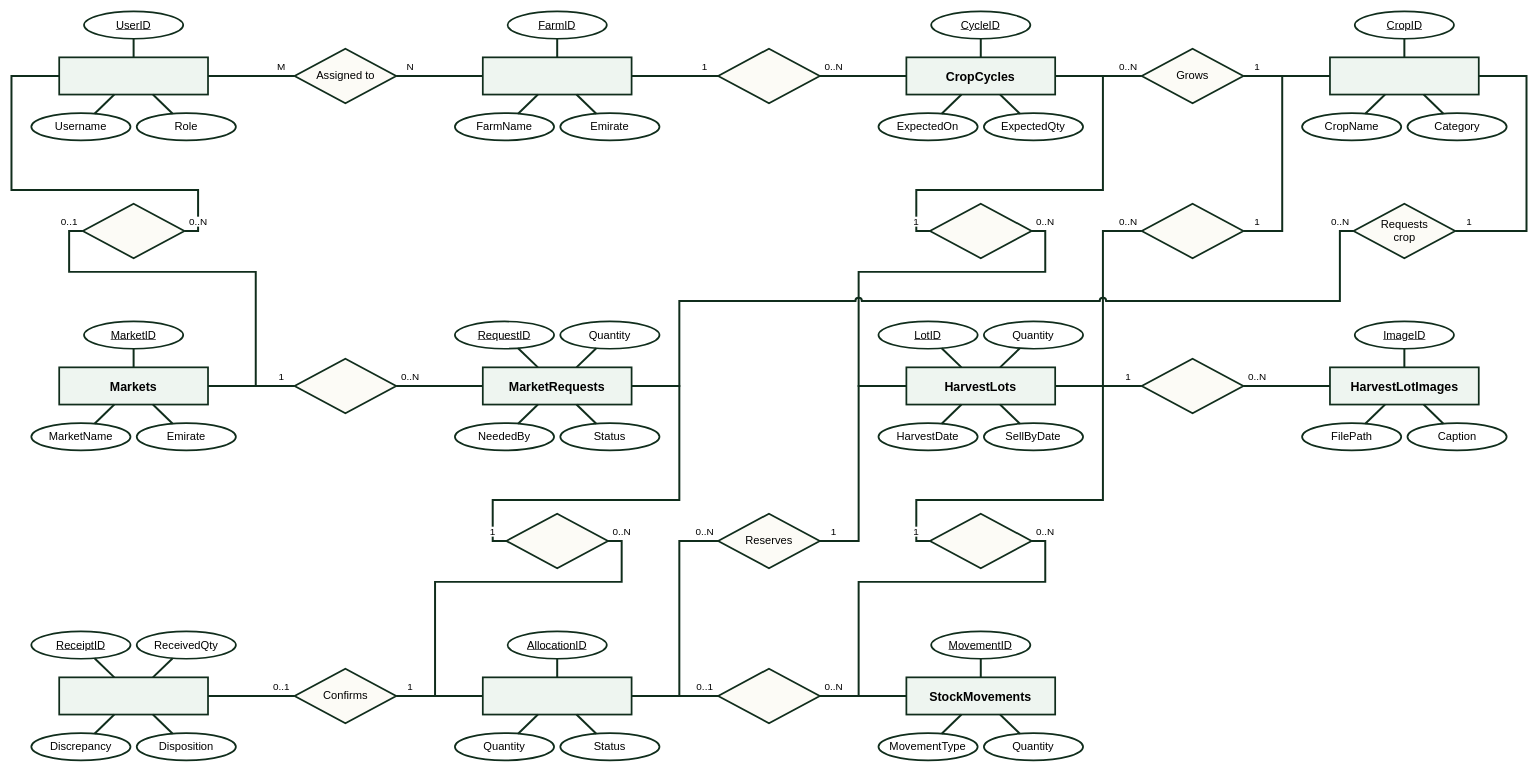
This 1539x772 diagram has some shape labels left out. Here are the shapes that lost their labels. From the top down, the centre of each, then its label:
(x=133, y=75): Users
(x=557, y=75): Farms
(x=768, y=75): Hosts
(x=1404, y=75): Crops
(x=133, y=230): Employs buyer
(x=980, y=230): Yields
(x=1192, y=230): Classifies lot
(x=345, y=385): Places
(x=1192, y=385): Has photo
(x=557, y=540): Fills
(x=980, y=540): Has movement
(x=133, y=695): DeliveryReceipts
(x=557, y=695): Allocations
(x=768, y=695): Settles
